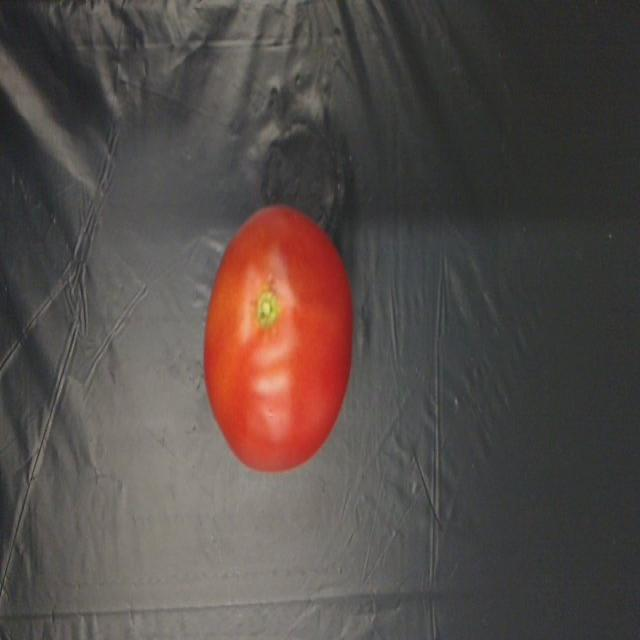kirmizi: (174, 184, 366, 478)
